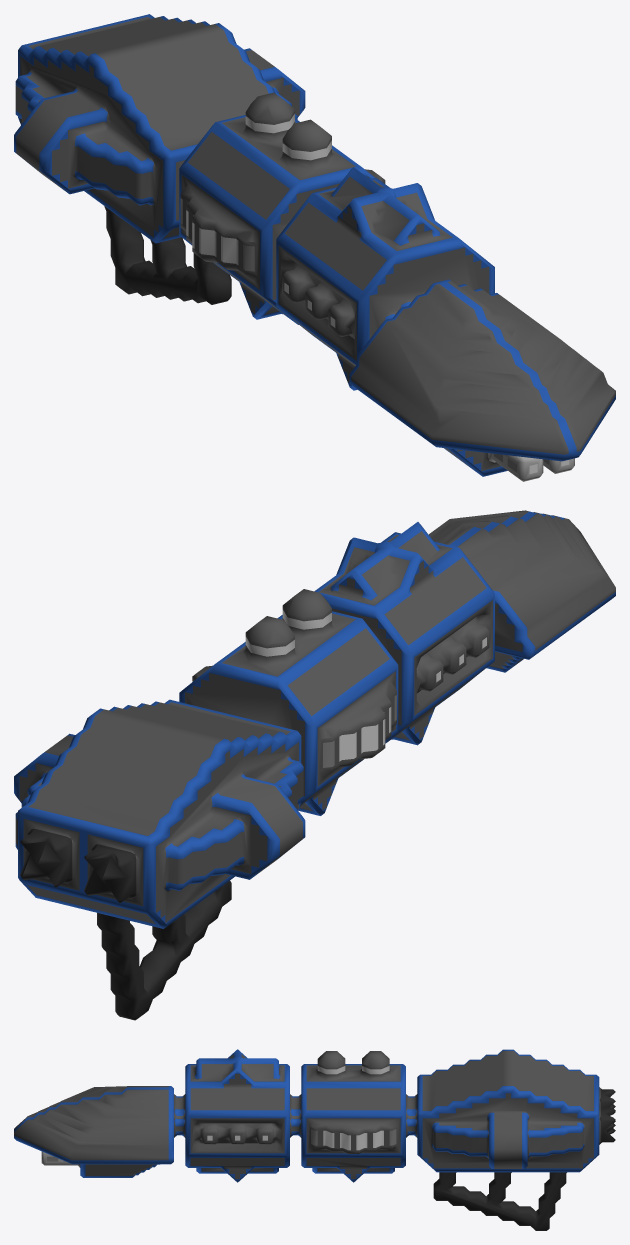
File: diadochi-3-tiamat-class.obj
3 views of the same model, one above another, from view 1: azimuth 30°, elevation 25°; view 2: azimuth 150°, elevation 25°; view 3: azimuth 270°, elevation 25° (orthographic). The views are drawn at different scales.
Size of the model in its own units: 33 by 35 by 109.
1 material, 1 textured.
